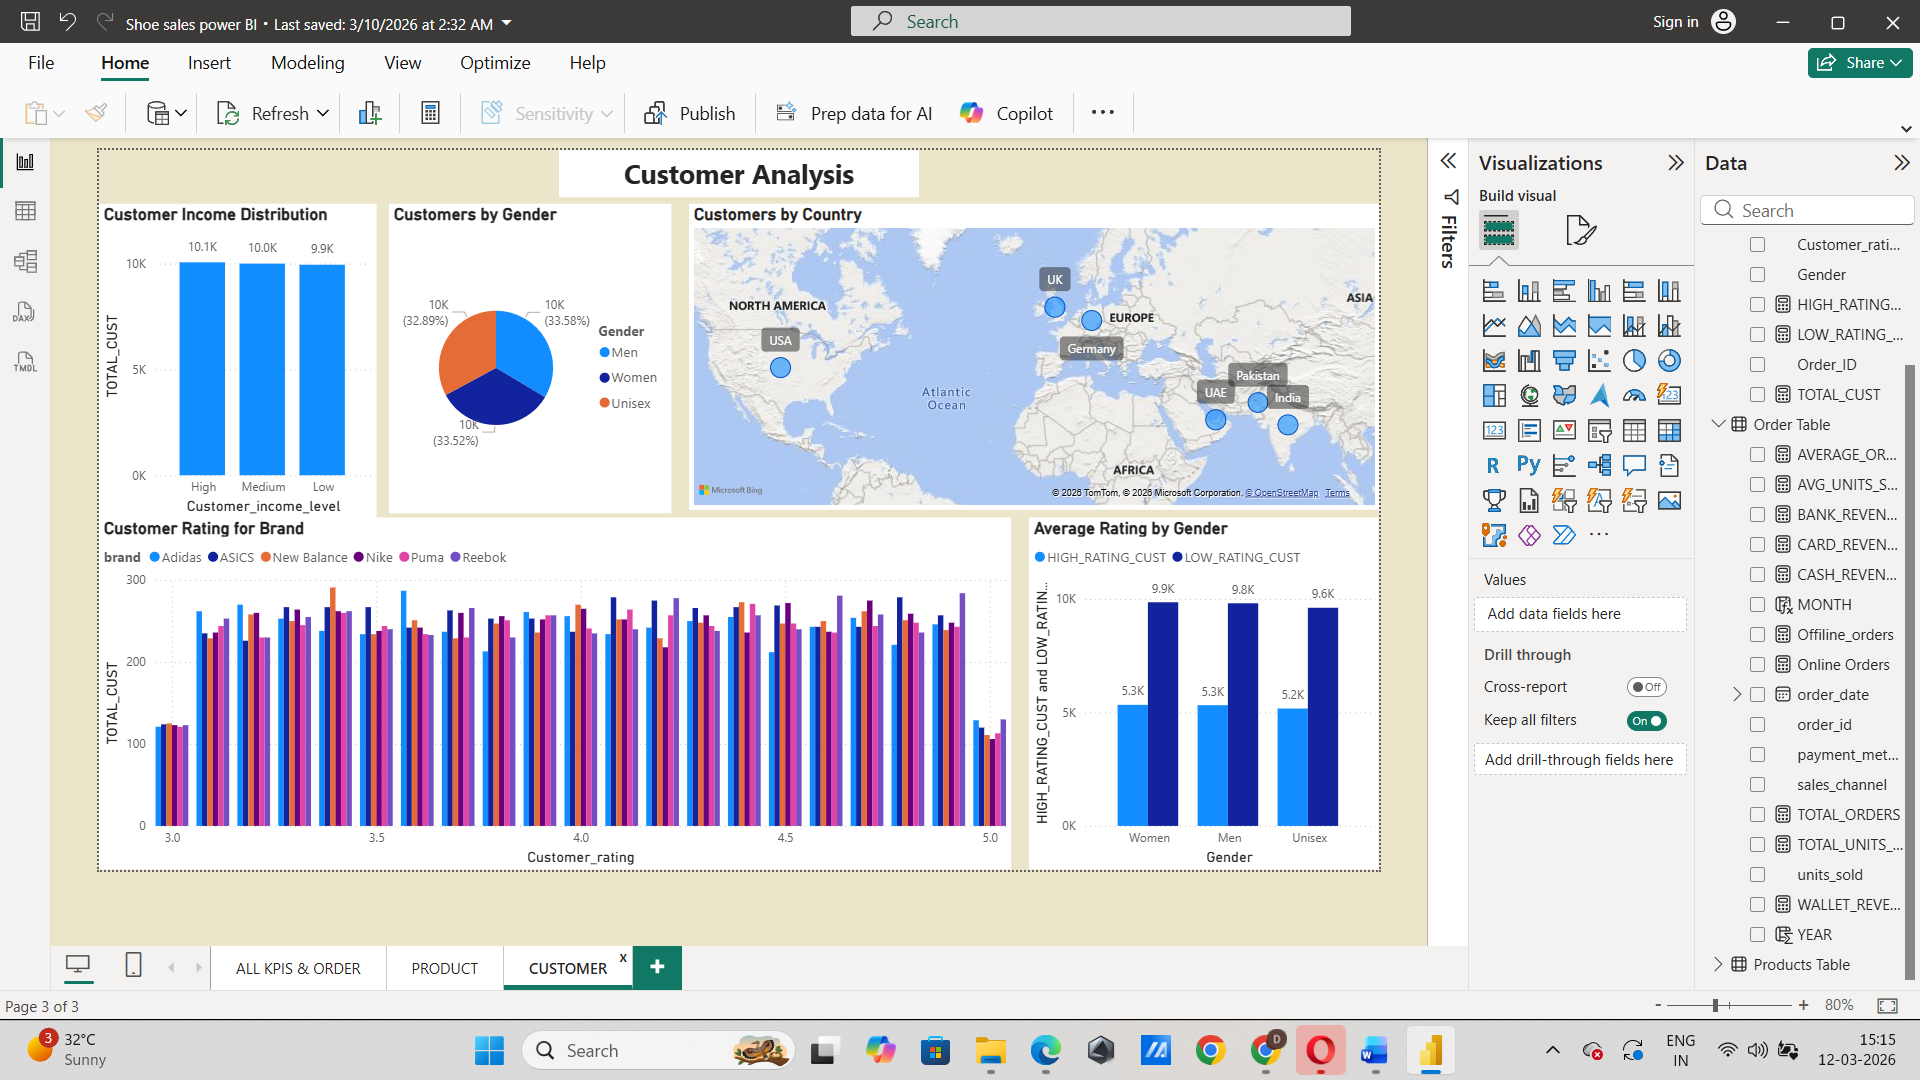

What the dashboard file says about the page in this screenshot:
{"tool":"powerbi","page":{"name":"CUSTOMER","canvas":[1280,720],"ordinal":2},"visuals":[{"type":"textbox","box":[460,0,360,47.5],"z":0},{"type":"pieChart","title":"Customers by Gender","fields":{"Category":["Customer table.Gender"],"Y":["Customer table.TOTAL_CUST"]},"box":[289.8,53.8,282.5,309.4],"z":1000},{"type":"map","title":"Customers by Country","fields":{"Category":["Customer table.Country"],"Size":["Customer table.TOTAL_CUST"]},"box":[589.4,53.8,690.9,305.7],"z":2000},{"type":"clusteredColumnChart","title":"Average Rating by Gender","fields":{"Category":["Customer table.Gender"],"Y":["Customer table.HIGH_RATING_CUST","Customer table.LOW_RATING_CUST"]},"box":[930.6,368.1,349.7,352.2],"z":3000},{"type":"lineStackedColumnComboChart","title":"Customer Income Distribution","fields":{"Category":["Customer table.Customer_income_level"],"Y":["Customer table.TOTAL_CUST"]},"box":[0,53.8,277.6,315.5],"z":4000},{"type":"clusteredColumnChart","title":"Customer Rating for Brand","fields":{"Category":["Customer table.Customer_rating"],"Y":["Customer table.TOTAL_CUST"],"Series":["Products Table.brand"]},"box":[0,368.1,912.2,352.2],"z":5000}]}

Visuals, with their boxes on the page's 1280x720 design canvas (x1, y1, x2, y2). These are canvas units, not pixel positions in the 1920x1080 screenshot, which may show the page scaled, cropped or inside an application window:
textbox: BBox(460, 0, 820, 48)
"Customers by Gender" pieChart: BBox(290, 54, 572, 363)
"Customers by Country" map: BBox(589, 54, 1280, 360)
"Average Rating by Gender" clusteredColumnChart: BBox(931, 368, 1280, 720)
"Customer Income Distribution" lineStackedColumnComboChart: BBox(0, 54, 278, 369)
"Customer Rating for Brand" clusteredColumnChart: BBox(0, 368, 912, 720)
